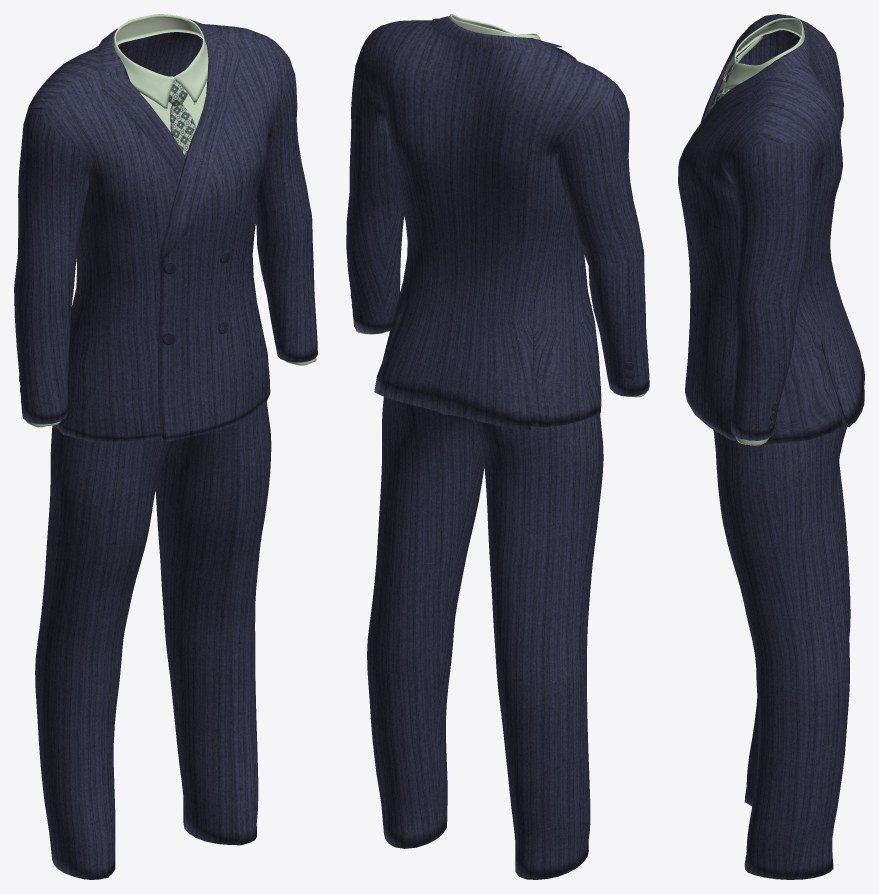
The model's file is full_suit_double_breasted.gltf.
3 renders of one model, left to right at view 1: azimuth 30°, elevation 25°; view 2: azimuth 150°, elevation 25°; view 3: azimuth 270°, elevation 25°, orthographic. The views are drawn at different scales.
Parts seen in each view (by area): view 1: full_suit_double_breasted; view 2: full_suit_double_breasted; view 3: full_suit_double_breasted.
Boxes of the visible parts, x1,y1,x2,y2 form: full_suit_double_breasted: (14,14,317,879); full_suit_double_breasted: (346,14,649,879); full_suit_double_breasted: (678,14,864,879).
Size of the model in its own units: 0.5373 by 1.46 by 0.3066.
Materials: 1 (1 with a texture image).
